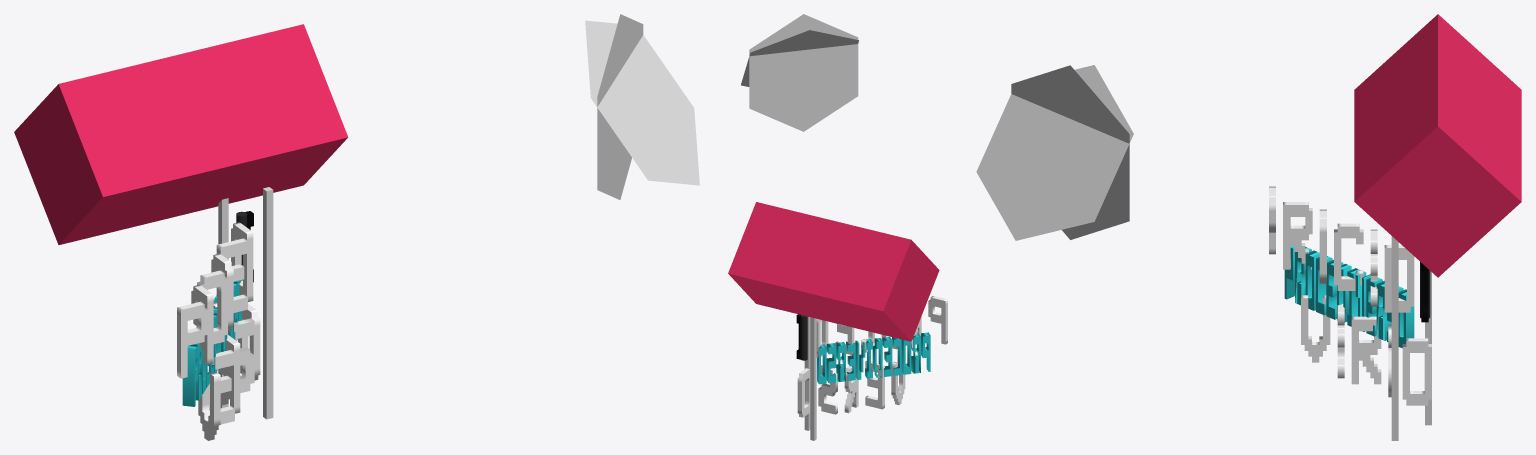
Rendered from placa isometrica.fbx.
3 views of the same model, side by side, from view 1: azimuth 30°, elevation 25°; view 2: azimuth 150°, elevation 25°; view 3: azimuth 270°, elevation 25° (orthographic). The views are drawn at different scales.
Parts seen in each view (by area): view 1: Cube.001, inf, der, iz, separacion, procediverso.003, der.001, p, inf.001, v, o1, d (+8 smaller); view 2: Cube.001, procediverso.003, inf.001, iz.001, der.001, separacion.002, iz, der, o2, p, e2, s (+6 smaller); view 3: Cube.001, inf, procediverso.003, iz, der, iz.001, der.001, separacion, r2, r1, o2, d (+6 smaller).
Part boxes in pixels (left/top/right/bottom): Cube.001: left=14, top=24, right=348, bottom=244; inf: left=642, top=103, right=699, bottom=185; der: left=585, top=21, right=647, bottom=179; iz: left=585, top=20, right=693, bottom=107; separacion: left=263, top=187, right=273, bottom=419; procediverso.003: left=182, top=280, right=241, bottom=406; der.001: left=597, top=15, right=620, bottom=188; p: left=177, top=301, right=208, bottom=378; inf.001: left=597, top=131, right=631, bottom=199; v: left=198, top=366, right=220, bottom=440; o1: left=197, top=270, right=227, bottom=344; d: left=231, top=222, right=253, bottom=301; Cube.001: left=728, top=202, right=939, bottom=341; procediverso.003: left=817, top=332, right=930, bottom=384; inf.001: left=749, top=73, right=857, bottom=131; iz.001: left=749, top=14, right=803, bottom=108; der.001: left=803, top=14, right=858, bottom=95; separacion.002: left=810, top=317, right=816, bottom=440; iz: left=741, top=30, right=809, bottom=84; der: left=804, top=30, right=858, bottom=49; o2: left=797, top=368, right=810, bottom=417; p: left=928, top=296, right=947, bottom=344; e2: left=865, top=361, right=884, bottom=409; s: left=818, top=365, right=837, bottom=414; Cube.001: left=1354, top=14, right=1521, bottom=277; inf: left=976, top=153, right=1094, bottom=240; procediverso.003: left=1284, top=246, right=1414, bottom=348; iz: left=1055, top=65, right=1133, bottom=221; der: left=976, top=65, right=1094, bottom=171; iz.001: left=1070, top=65, right=1129, bottom=220; der.001: left=1011, top=65, right=1070, bottom=118; separacion: left=1391, top=236, right=1398, bottom=440; r2: left=1351, top=316, right=1381, bottom=384; r1: left=1283, top=202, right=1312, bottom=269; o2: left=1402, top=338, right=1431, bottom=405; d: left=1384, top=245, right=1414, bottom=312.
Size of the model in its own units: 830 by 852 by 923.
